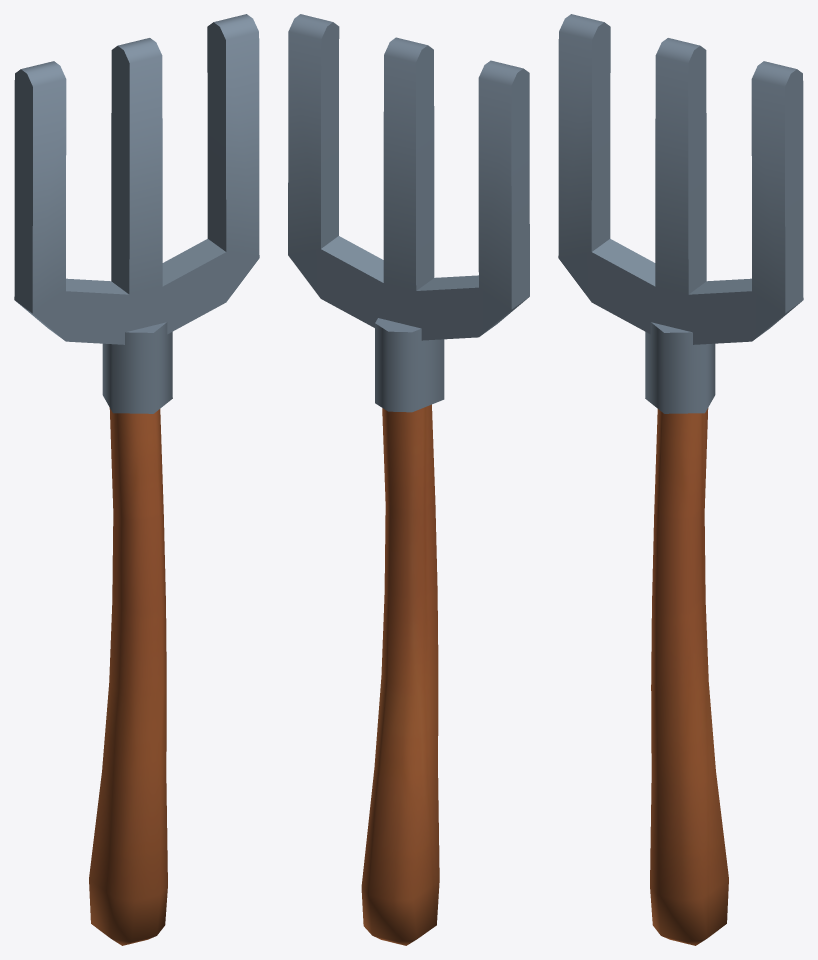
File: Rake.fbx
3 renders of one model, left to right at view 1: azimuth 30°, elevation 25°; view 2: azimuth 150°, elevation 25°; view 3: azimuth 330°, elevation 25°, orthographic.
Parts seen in each view (by area): view 1: Rake; view 2: Rake; view 3: Rake.
Part boxes in pixels (x1,y1,x2,y2): Rake: (14,14,259,945); Rake: (288,14,529,945); Rake: (558,14,803,945).
Bounding box in the file's own units: 41.88 × 159 × 14.34.
